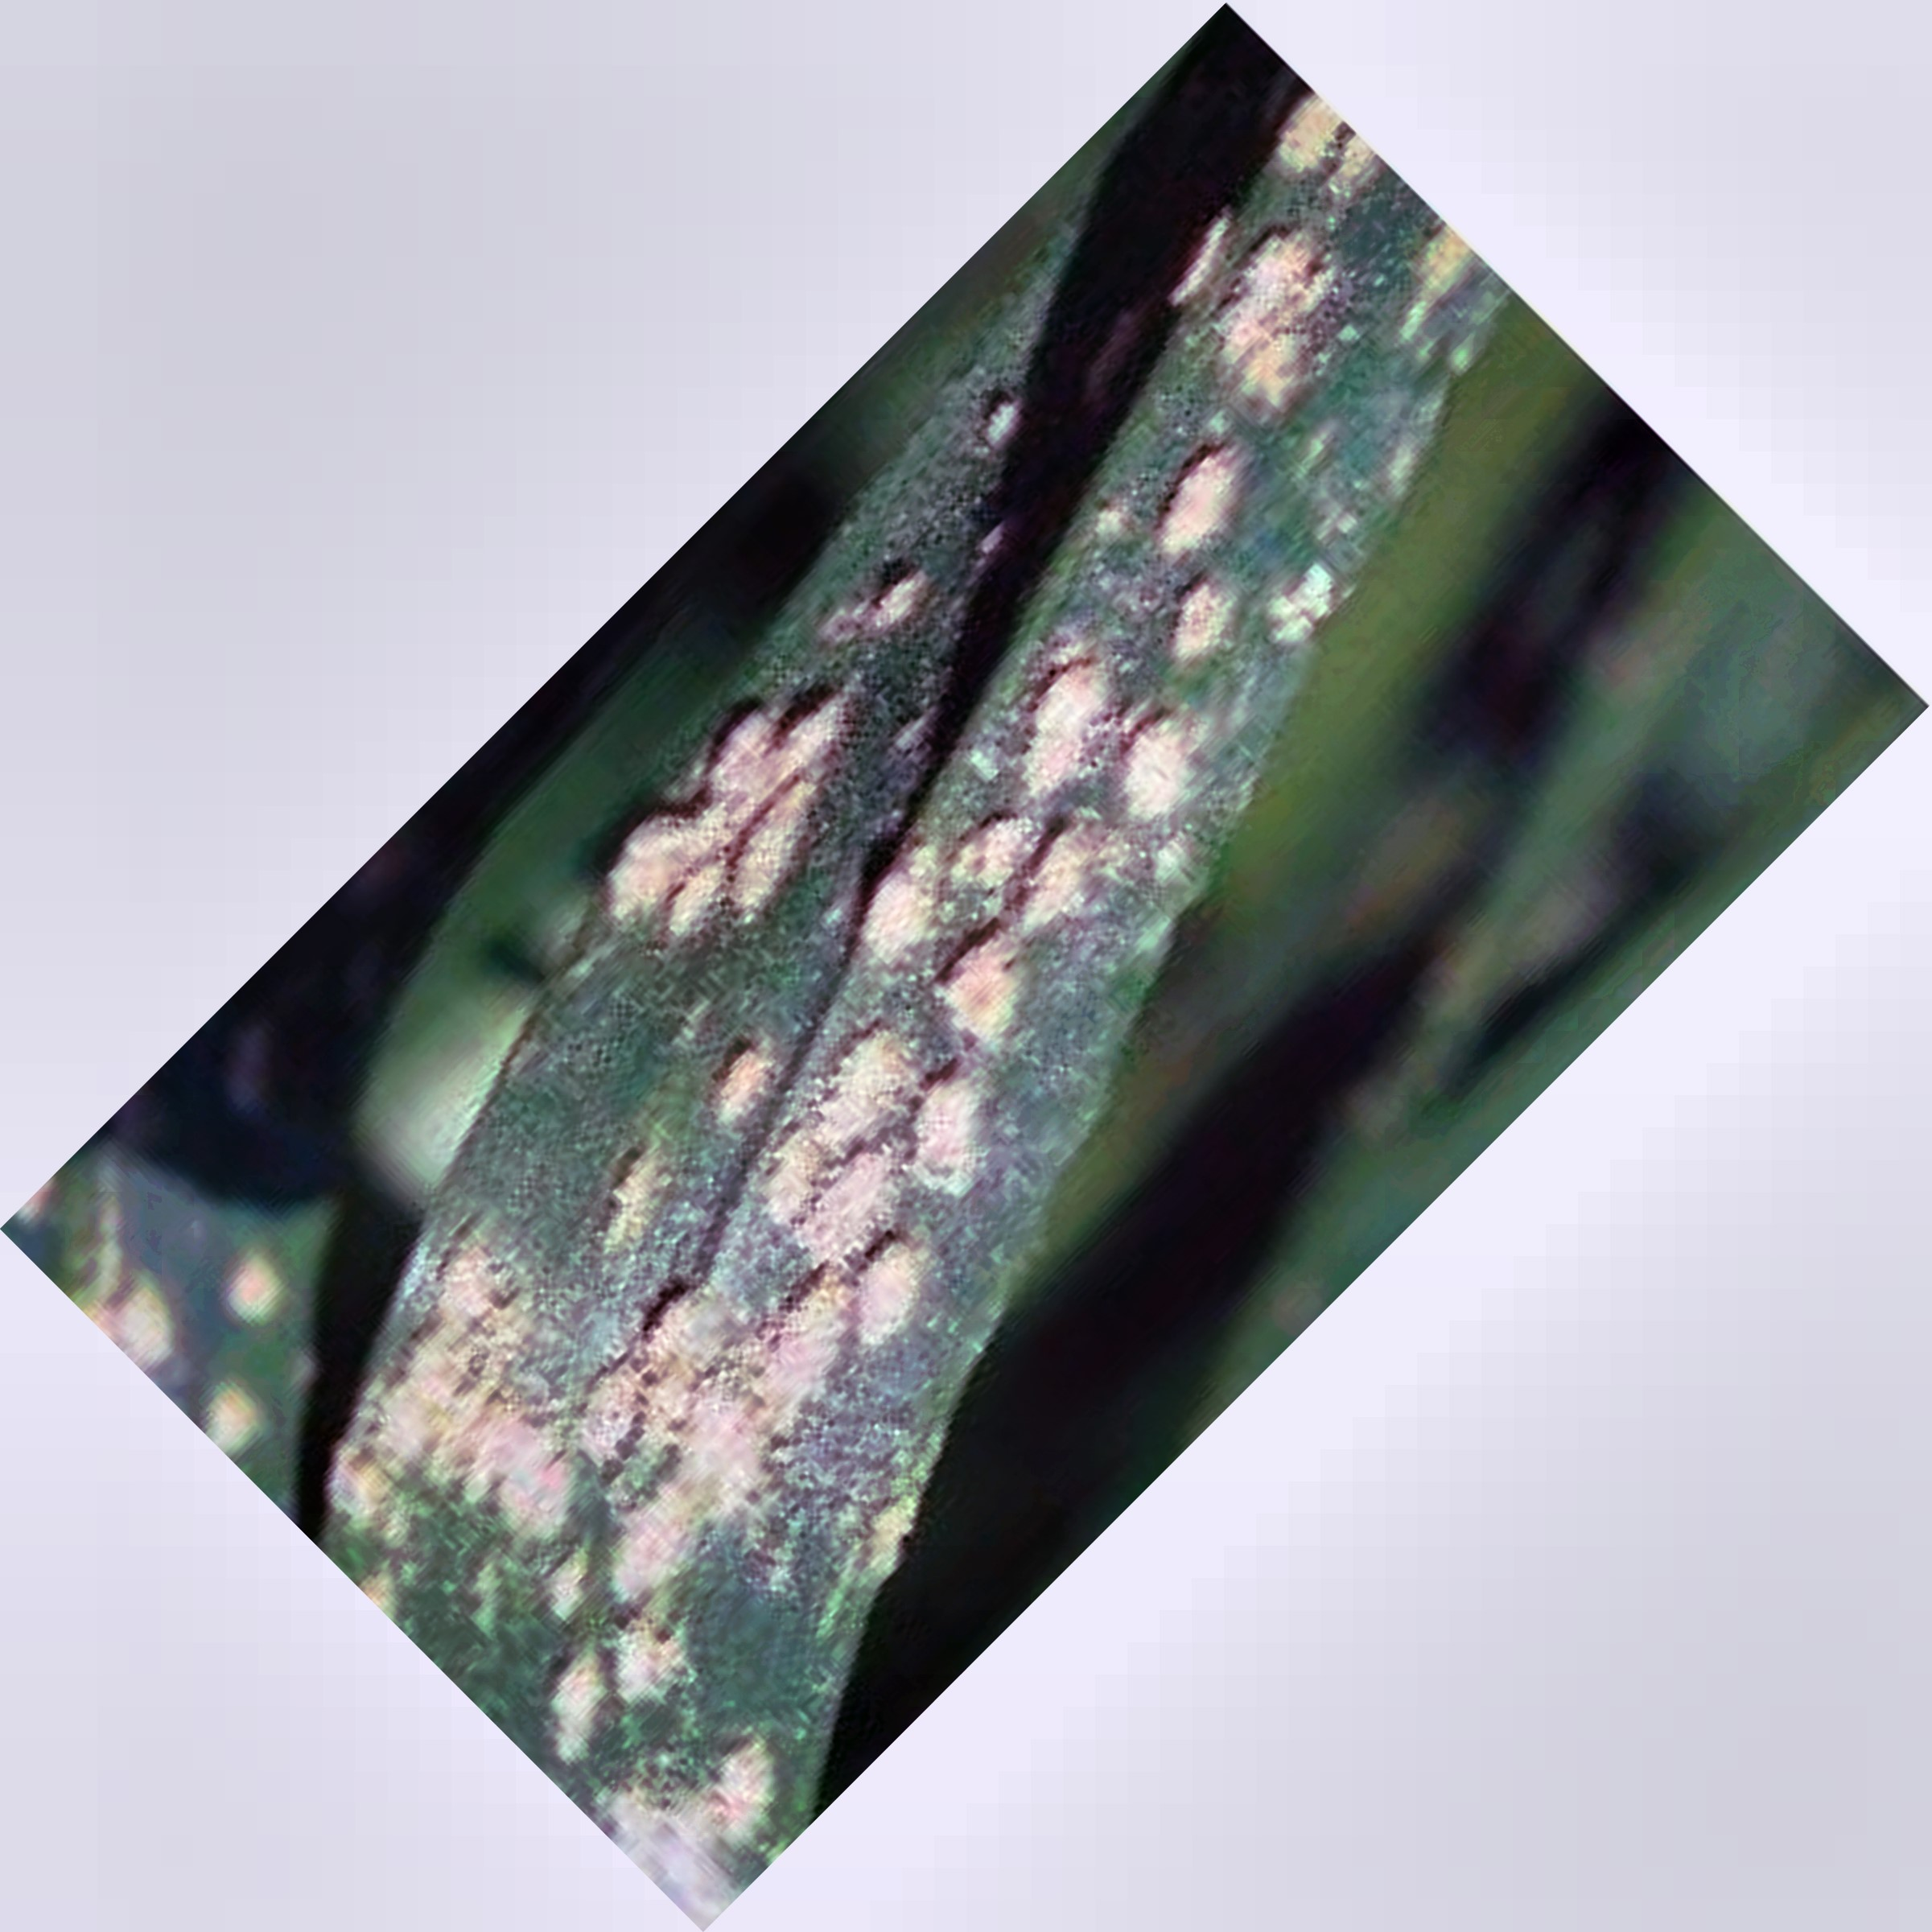Powdery Mildew: (494, 223, 1545, 1576)
